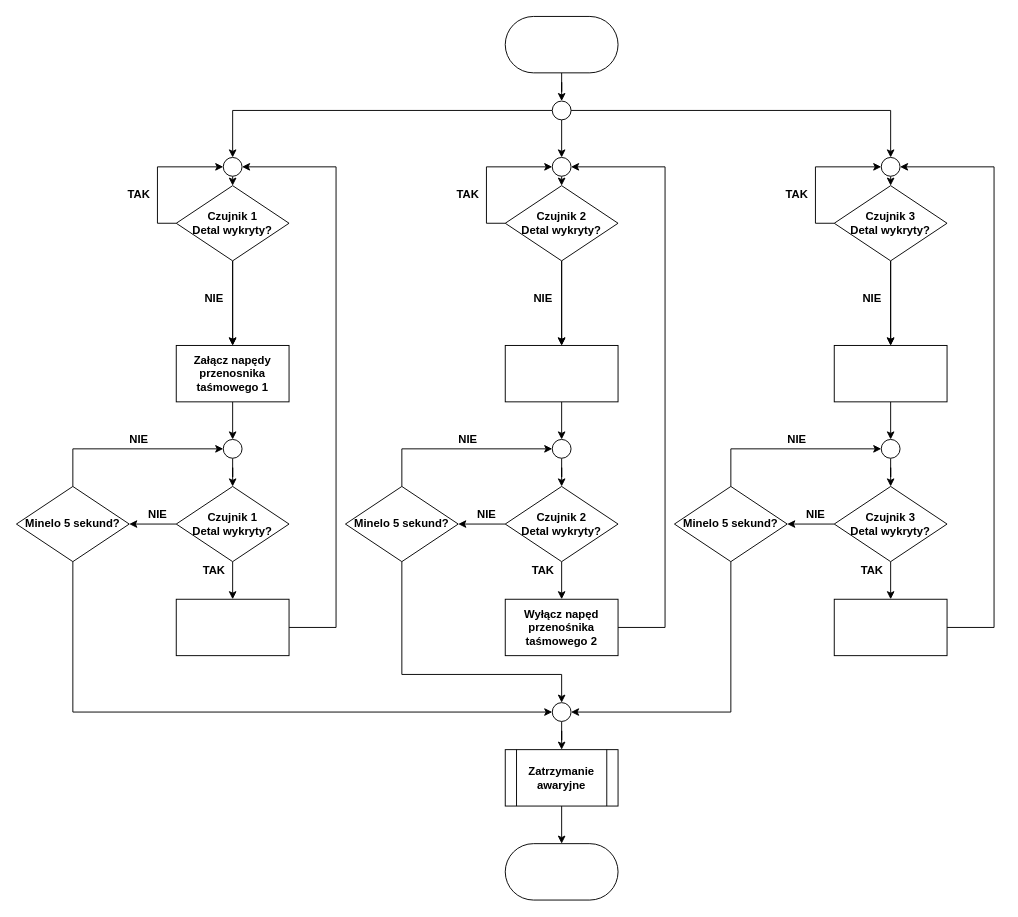
The diagram is 1018 pixels wide and 917 high, and some of its shapes have lost their labels. Each missing label, with the centre of its shape:
"START" belongs at [561,44].
"STOP" belongs at [561,871].
"Wyłącz napęd przenośnika taśmowego 1" belongs at [232,627].
"Wyłącz napęd przenośnika taśmowego 3" belongs at [890,627].
"Załącz napędy przenosnika taśmowego 2" belongs at [561,373].
"Załącz napędy przenosnika taśmowego 3" belongs at [890,373].
